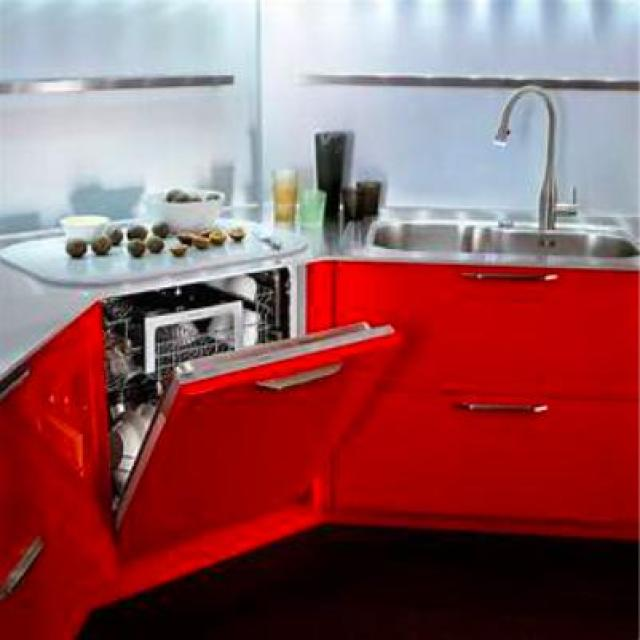dishwasher: (102, 265, 404, 559)
